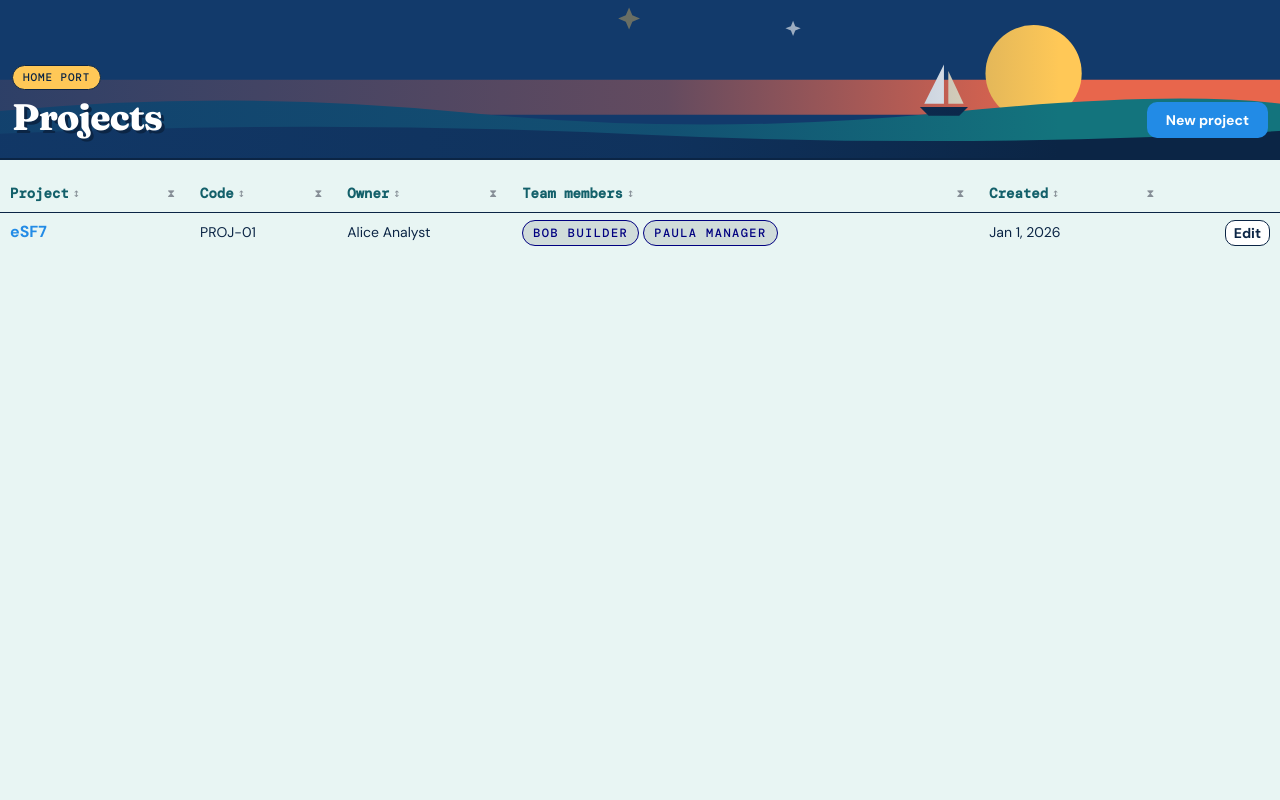
Scenario: New project for a team member › offers New project and creates one without any PM-only controls
The width and height of the screenshot is (1280, 800).
Click the button "New project" at (1207, 120), box 1147,102 -> 1268,138
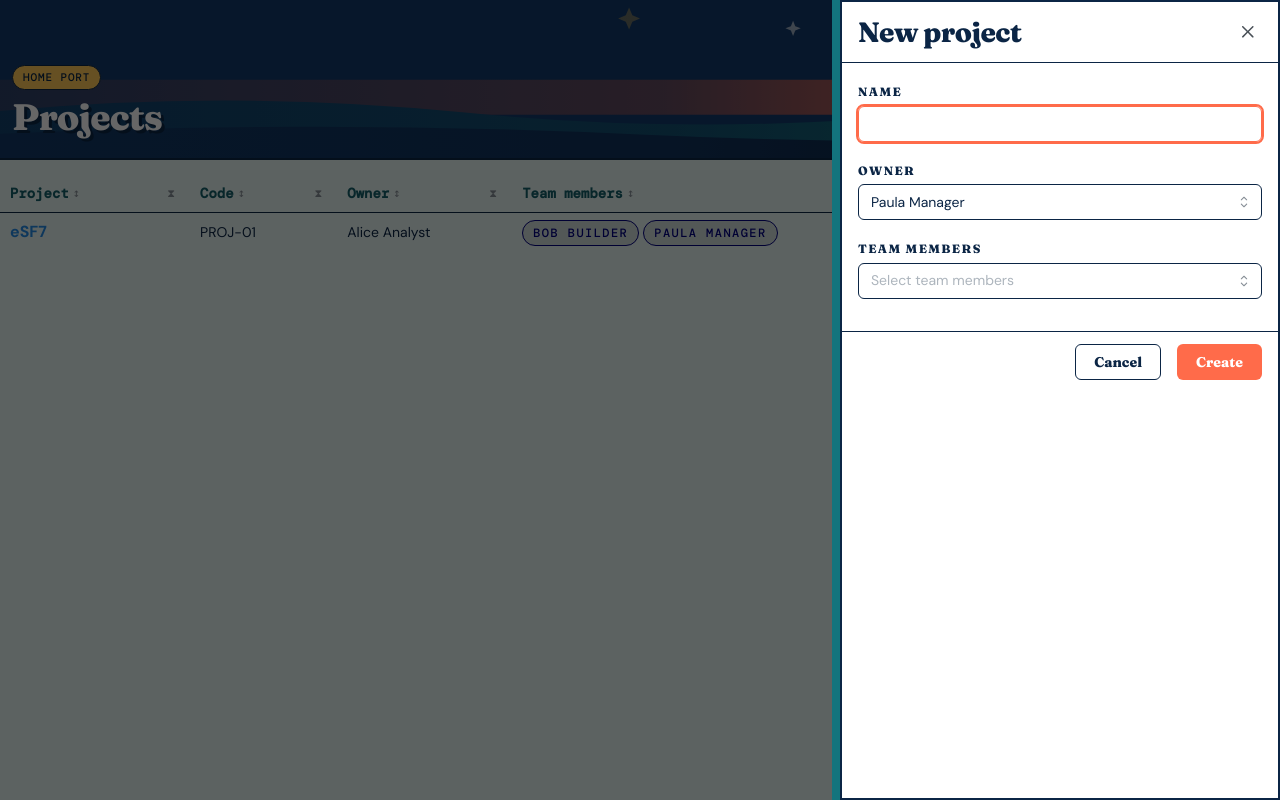
Result: the button "Create" is shown at 1177,344 -> 1262,380
